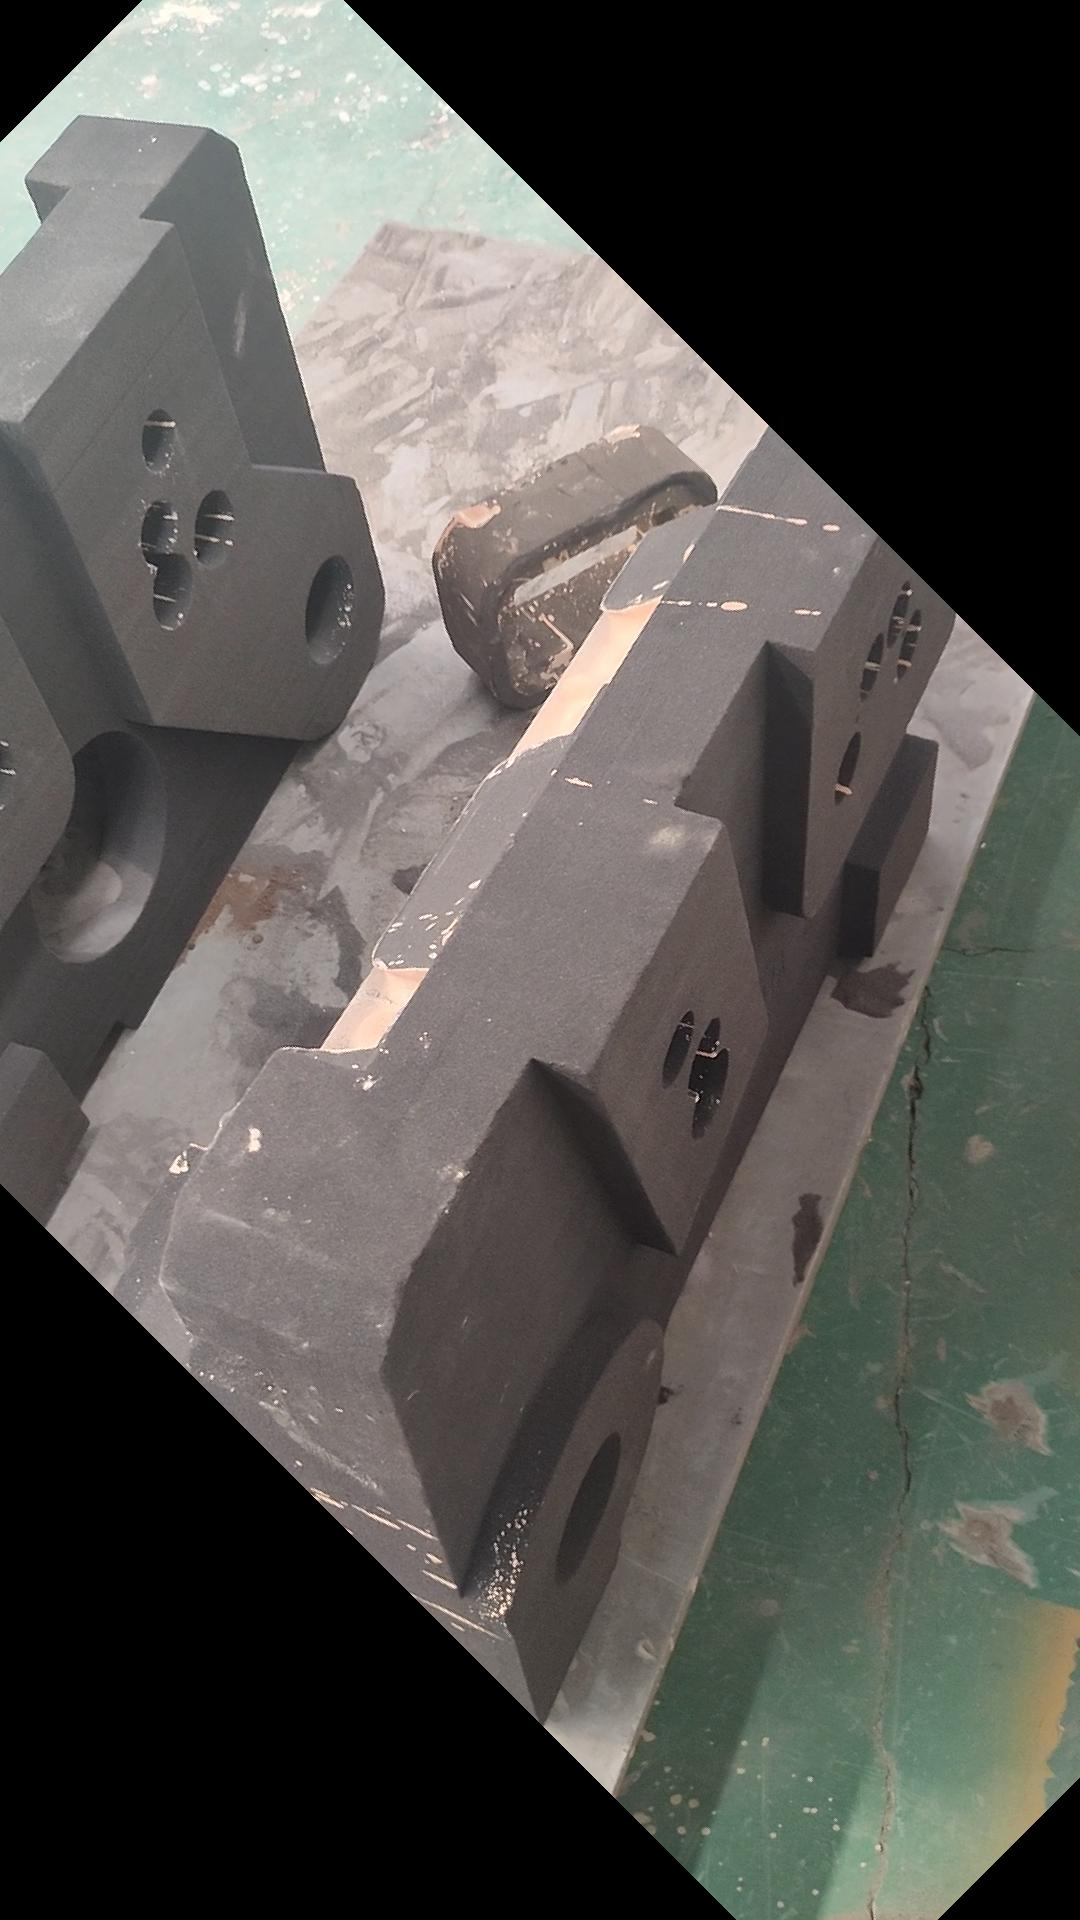pouring hole: (554, 1433, 622, 1588), (305, 555, 356, 663)
